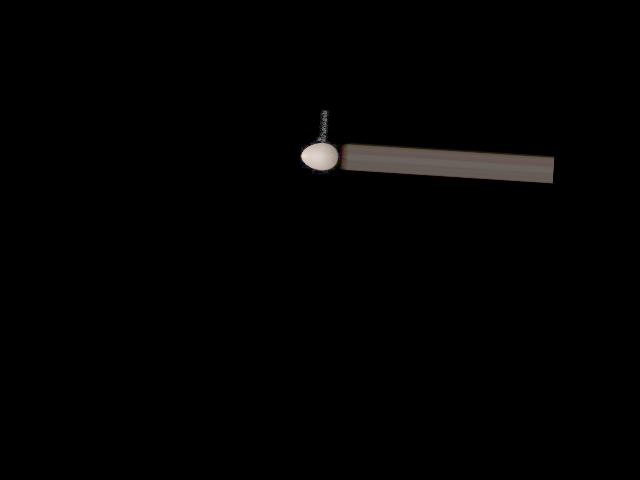egg: (300, 142, 339, 171)
